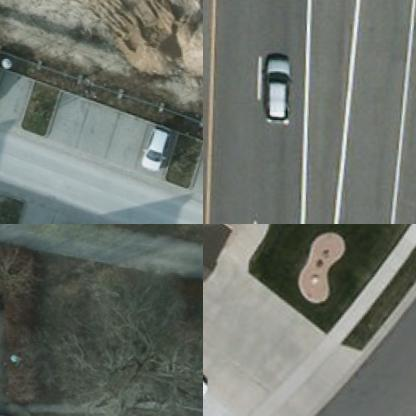car: (257, 52, 291, 121), (131, 119, 166, 168), (192, 139, 202, 194)
